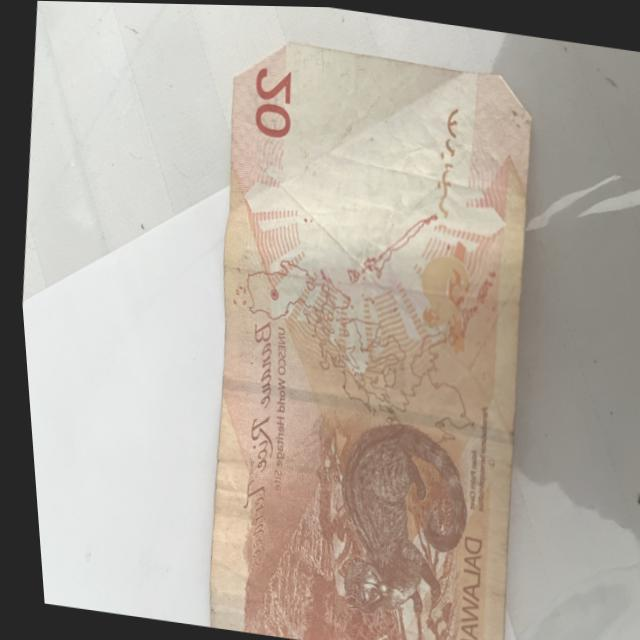20_civet: (301, 401, 470, 627)
20_civet_watermark: (405, 239, 473, 340)
